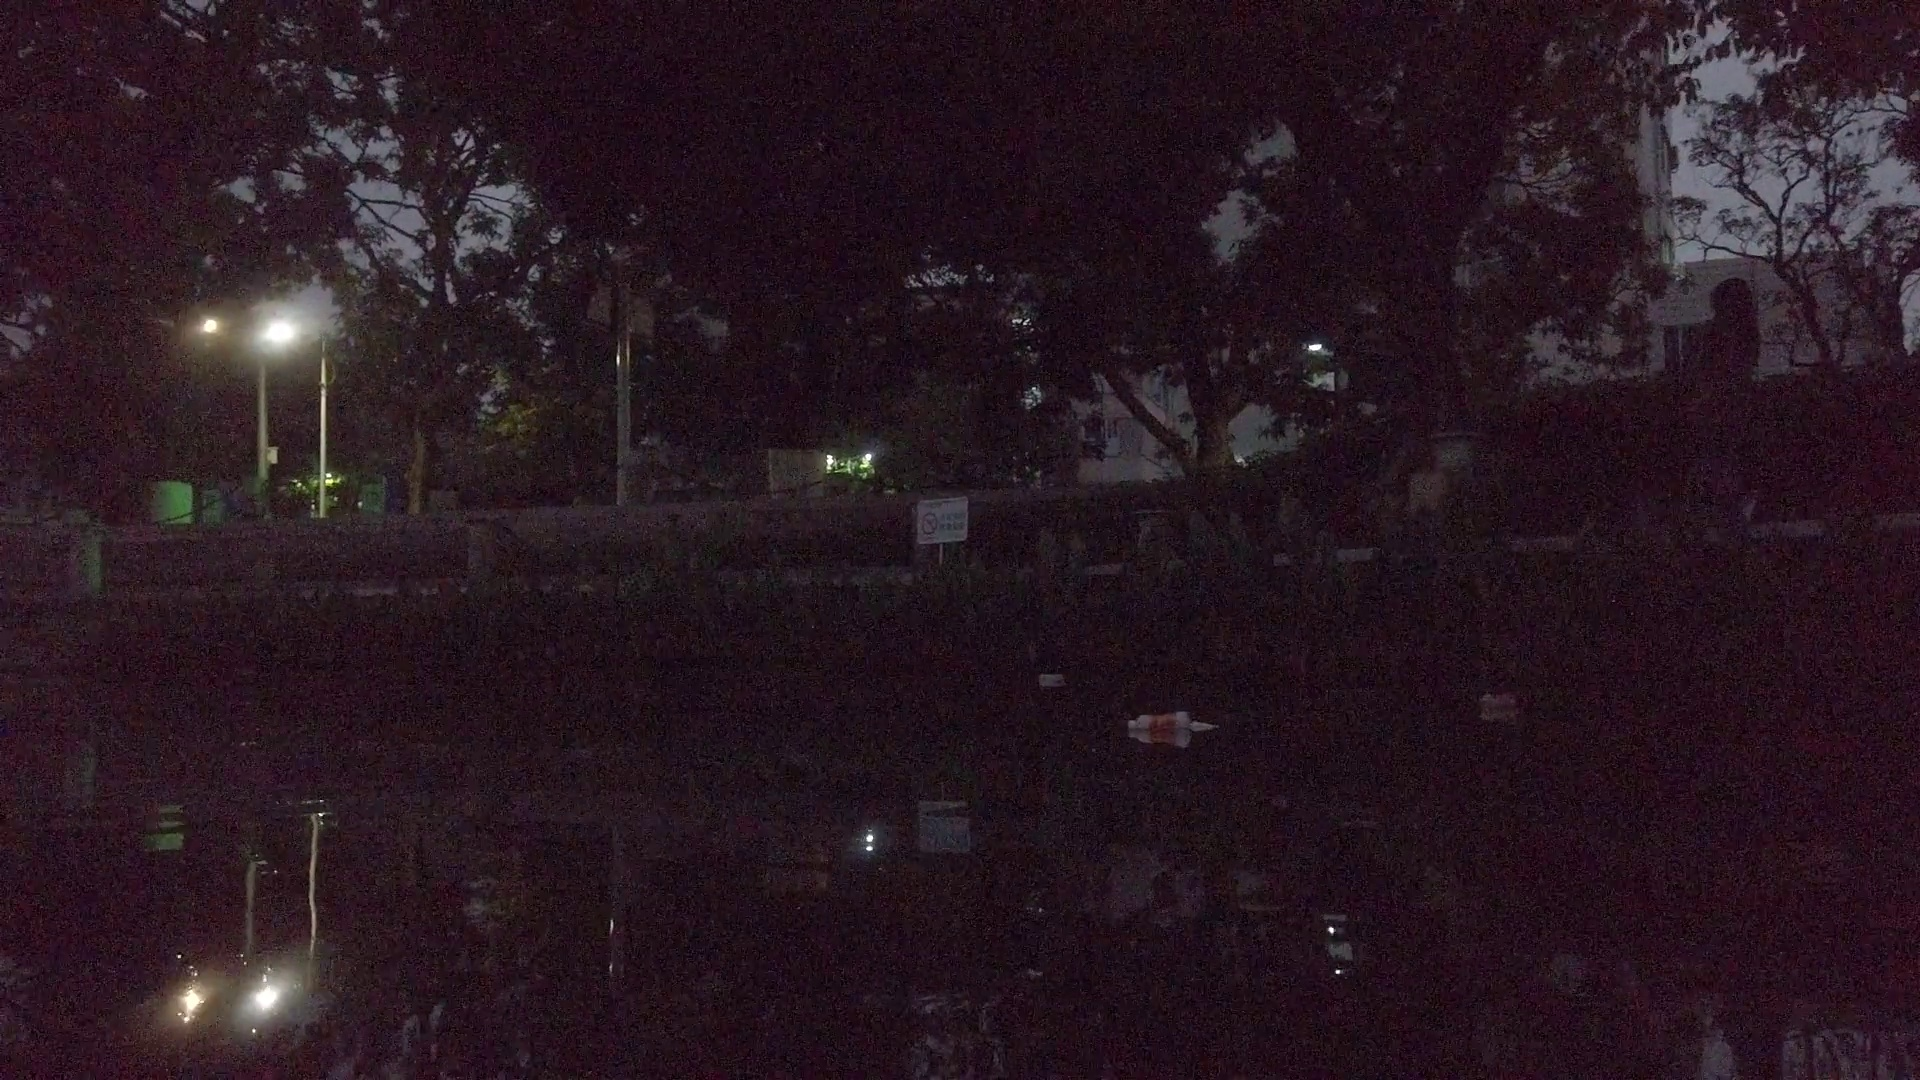bottle: (1127, 712, 1193, 728), (1478, 694, 1519, 712)
carton: (1038, 674, 1067, 688)
